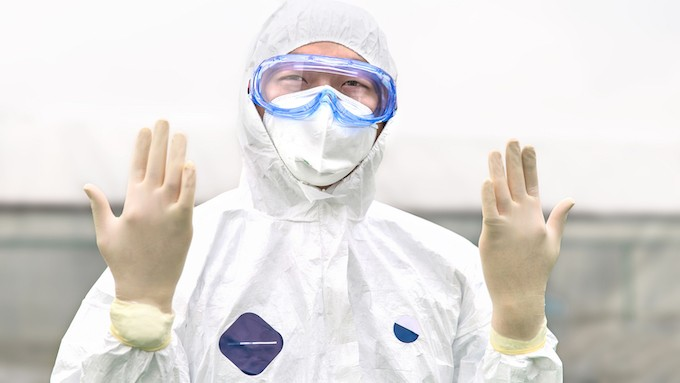Coverall: (47, 184, 565, 383)
Gloves: (83, 118, 201, 320), (474, 138, 571, 342)
Goggles: (249, 54, 398, 130)
with_mask: (265, 69, 380, 196)
